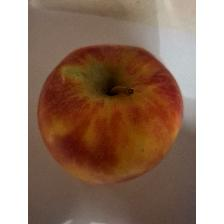Apfel: (37, 38, 186, 186)
